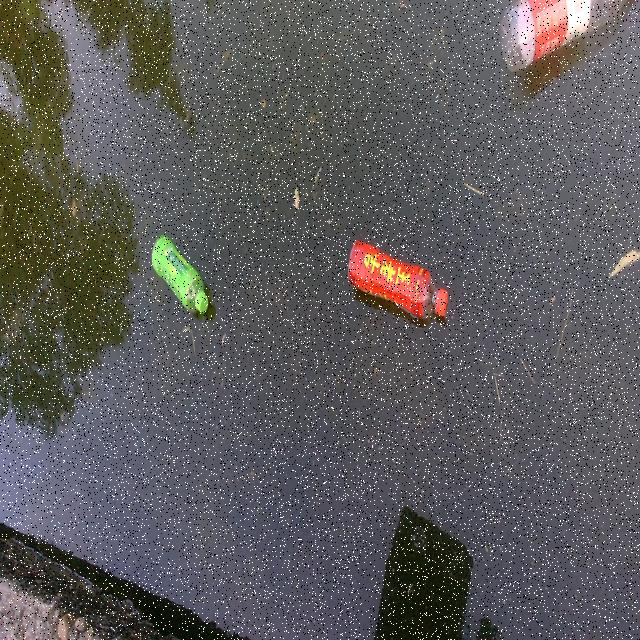Bottle: (346, 234, 449, 329), (496, 6, 636, 74), (148, 229, 211, 322)
